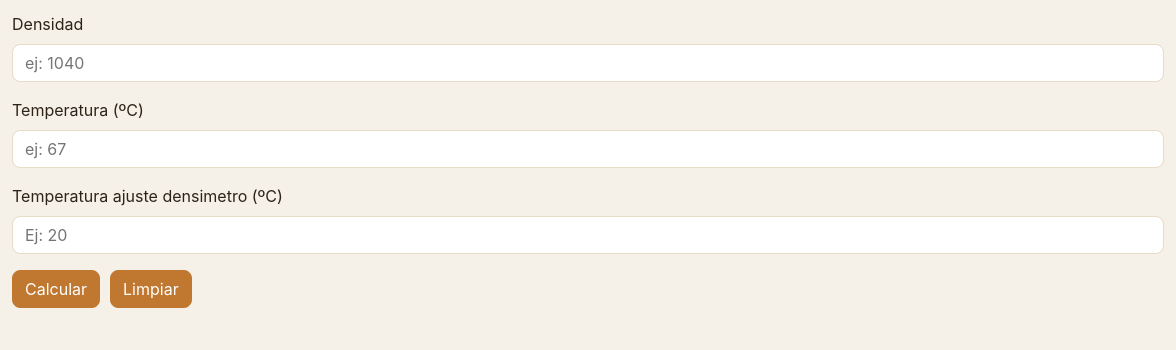
it: Hydrometer › limpiar borra resultado y los tres campos
Type "1040" into the field with placeholder "ej: 1040" at (588, 63), box [12,44,1164,82]
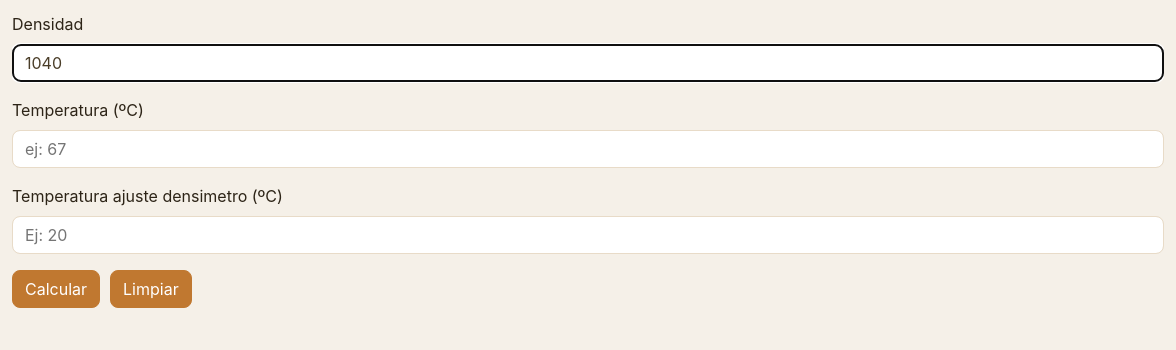
Type "20" into the field with placeholder "ej: 67" at (588, 149), box [12,130,1164,168]
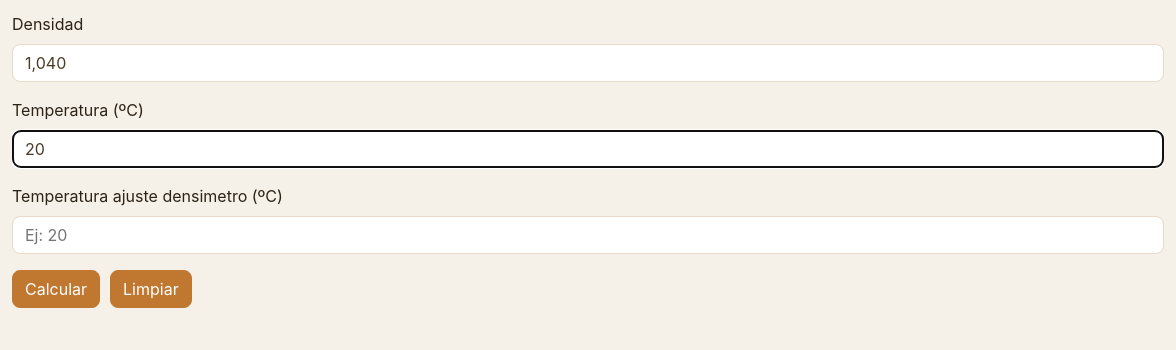
Type "20" into the field with placeholder "Ej: 20" at (588, 235), box [12,216,1164,254]
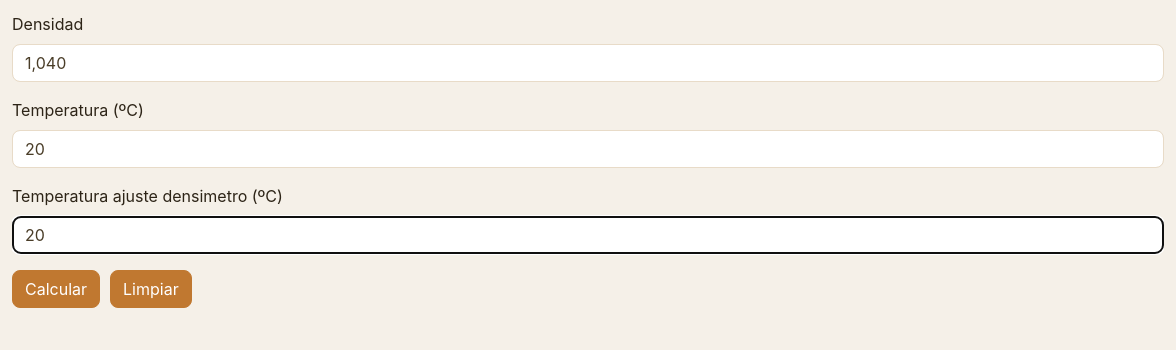
Click the button "Calcular" at (56, 289), box [12,270,100,308]
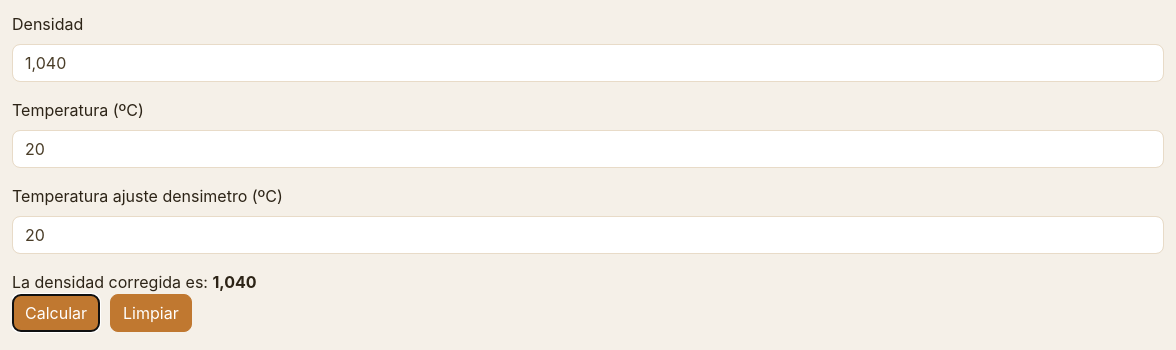
Result: the text "La densidad corregida es: 1,040" is shown at [12,272,257,292]
Click the button "Limpiar" at (151, 313), box [110,294,192,332]
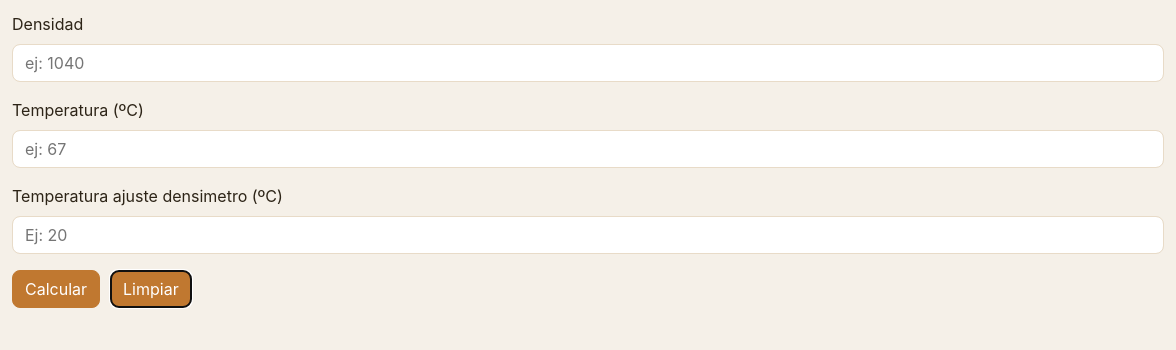
Result: the text "densidad corregida" is gone
Result: the field with placeholder "ej: 1040" is empty at [12,44,1164,82]
Result: the field with placeholder "ej: 67" is empty at [12,130,1164,168]
